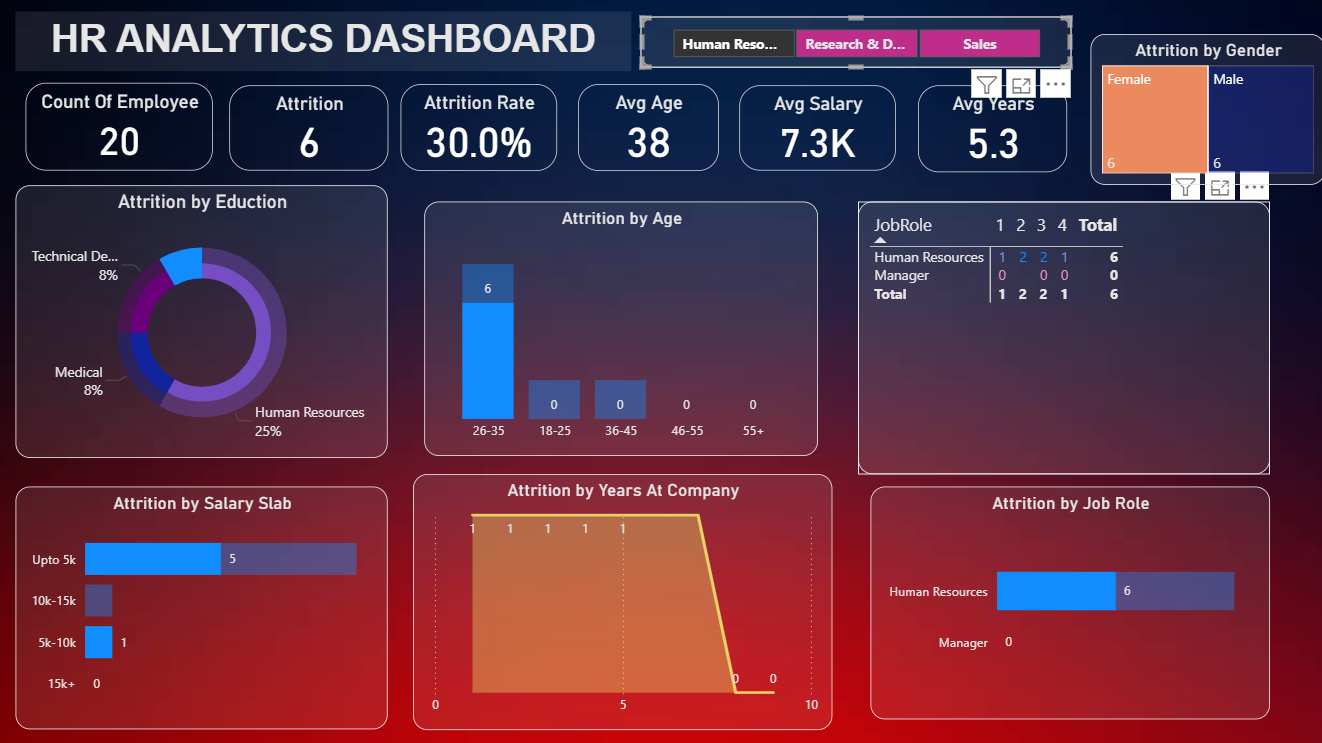

The dashboard page shown, as its layout file describes it:
{"tool":"powerbi","page":{"name":"Page 1","canvas":[1280,720],"ordinal":0},"visuals":[{"type":"card","title":"Count Of Employee","fields":{"Values":["CountNonNull(HR_Analytics.EmpID)"]},"box":[26.3,81.2,181.1,85.1],"z":0},{"type":"card","title":"Attrition","fields":{"Values":["Sum(HR_Analytics.AttritionCount)"]},"box":[223,83.3,153.7,82.3],"z":1000},{"type":"card","title":"Attrition Rate","fields":{"Values":["HR_Analytics.AttritionRate"]},"box":[389,81.9,150.9,83.7],"z":2000},{"type":"card","title":"Avg Age","fields":{"Values":["Avg(HR_Analytics.Age)"]},"box":[559.2,81.9,135.8,83.7],"z":3000},{"type":"card","title":"Avg Salary","fields":{"Values":["Avg(HR_Analytics.MonthlyIncome)"]},"box":[715.6,83.3,150.9,82.3],"z":4000},{"type":"card","title":"Avg Years","fields":{"Values":["Avg(HR_Analytics.YearsAtCompany)"]},"box":[888.5,83.3,144.1,83.7],"z":5000},{"type":"donutChart","title":"Attrition by Eduction","fields":{"Category":["HR_Analytics.EducationField"],"Y":["Sum(HR_Analytics.AttritionCount)"]},"box":[16.9,179.8,359.5,263],"z":6000},{"type":"columnChart","title":"Attrition by Age","fields":{"Y":["Sum(HR_Analytics.AttritionCount)"],"Category":["HR_Analytics.AgeGroup"]},"box":[411.7,194.9,380.1,245.6],"z":7000},{"type":"pivotTable","fields":{"Rows":["HR_Analytics.JobRole"],"Columns":["HR_Analytics.JobSatisfaction"],"Values":["Sum(HR_Analytics.AttritionCount)"]},"box":[830.2,194.9,397.9,263.5],"z":8000},{"type":"barChart","title":"Attrition by Salary Slab","fields":{"Category":["HR_Analytics.SalarySlab"],"Y":["Sum(HR_Analytics.AttritionCount)"]},"box":[16.9,470.5,359.5,234],"z":9000},{"type":"barChart","title":"Attrition by Job Role","fields":{"Category":["HR_Analytics.JobRole"],"Y":["Sum(HR_Analytics.AttritionCount)"]},"box":[842.5,470.7,385.6,225],"z":10000},{"type":"areaChart","title":"Attrition by Years At Company","fields":{"Category":["HR_Analytics.YearsAtCompany"],"Y":["Sum(HR_Analytics.AttritionCount)"]},"box":[400.7,458.3,404.8,247],"z":11000},{"type":"treemap","title":"Attrition by Gender","fields":{"Group":["HR_Analytics.Gender"],"Values":["Sum(HR_Analytics.AttritionCount)"]},"box":[1053.9,34.3,226.4,145.5],"z":12000},{"type":"slicer","fields":{"Values":["HR_Analytics.Department"]},"box":[620.2,16.5,415.8,49.4],"z":13000},{"type":"textbox","box":[16.5,12.3,594.2,57.6],"z":14000}]}

Visuals, with their boxes in screenshot pixels (x1, y1, x2, y2), scaled from the page's 1280x720 canvas onto the 1322x743 screenshot:
"Count Of Employee" card: 27:84:214:172
"Attrition" card: 230:86:389:171
"Attrition Rate" card: 402:85:558:171
"Avg Age" card: 578:85:718:171
"Avg Salary" card: 739:86:895:171
"Avg Years" card: 918:86:1066:172
"Attrition by Eduction" donutChart: 17:186:389:457
"Attrition by Age" columnChart: 425:201:818:455
pivotTable - HR_Analytics.JobRole x HR_Analytics.JobSatisfaction: 857:201:1268:473
"Attrition by Salary Slab" barChart: 17:486:389:727
"Attrition by Job Role" barChart: 870:486:1268:718
"Attrition by Years At Company" areaChart: 414:473:832:728
"Attrition by Gender" treemap: 1088:35:1321:186
slicer - HR_Analytics.Department: 641:17:1070:68
textbox: 17:13:631:72
